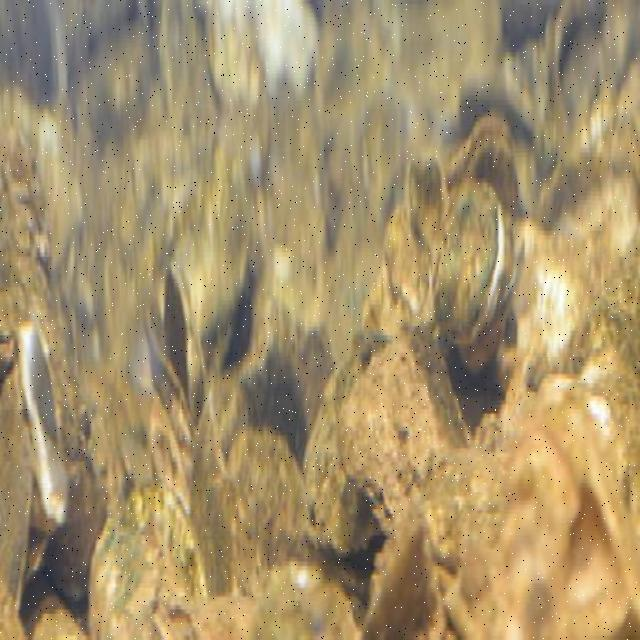Oyster-Closed: (336, 325, 478, 529), (303, 334, 390, 556), (86, 493, 203, 640), (100, 574, 356, 640), (225, 425, 305, 580), (436, 174, 507, 342), (357, 514, 444, 640), (191, 404, 236, 597), (0, 363, 31, 599), (446, 118, 521, 207)
Oyster-Open: (17, 323, 78, 529), (147, 267, 205, 442)
